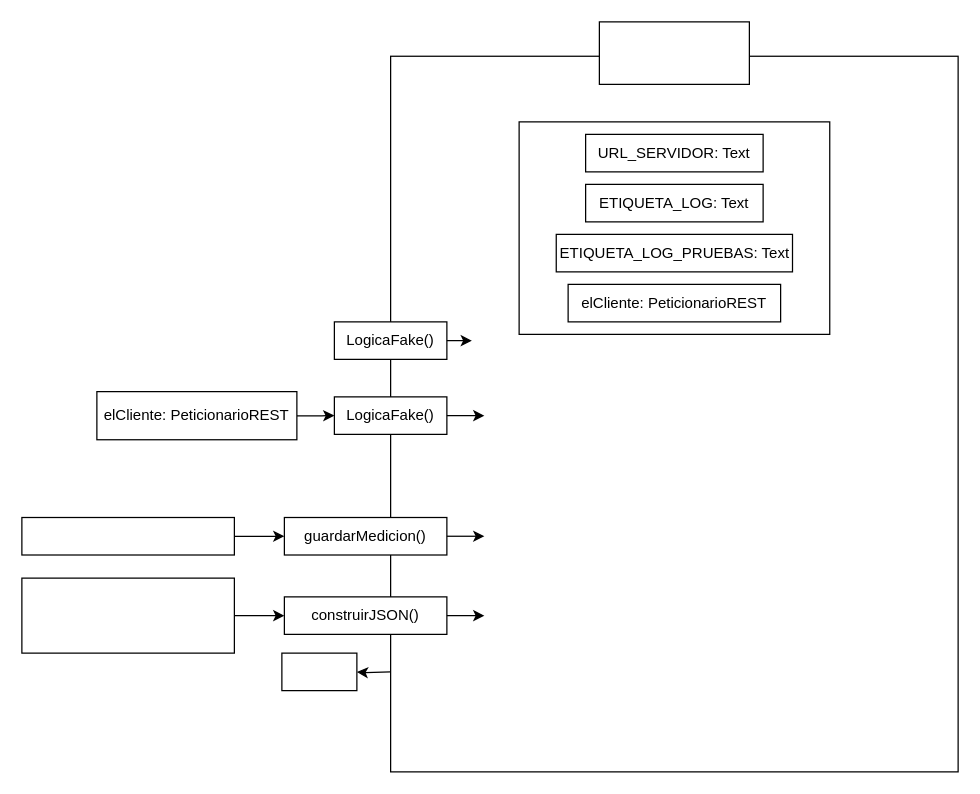
Image size: 980x794. Some labels were removed from this diagram. Here are the shapes that lost their labels. From the top down, the centre of each, then its label:
(x=673, y=52): LogicaFake
(x=127, y=535): medicion: Medicion laRespuesta: RespuestaREST
(x=127, y=615): identificadorPlaca: Text elTipoMedicion: Text elValor: Z
(x=319, y=671): Text
